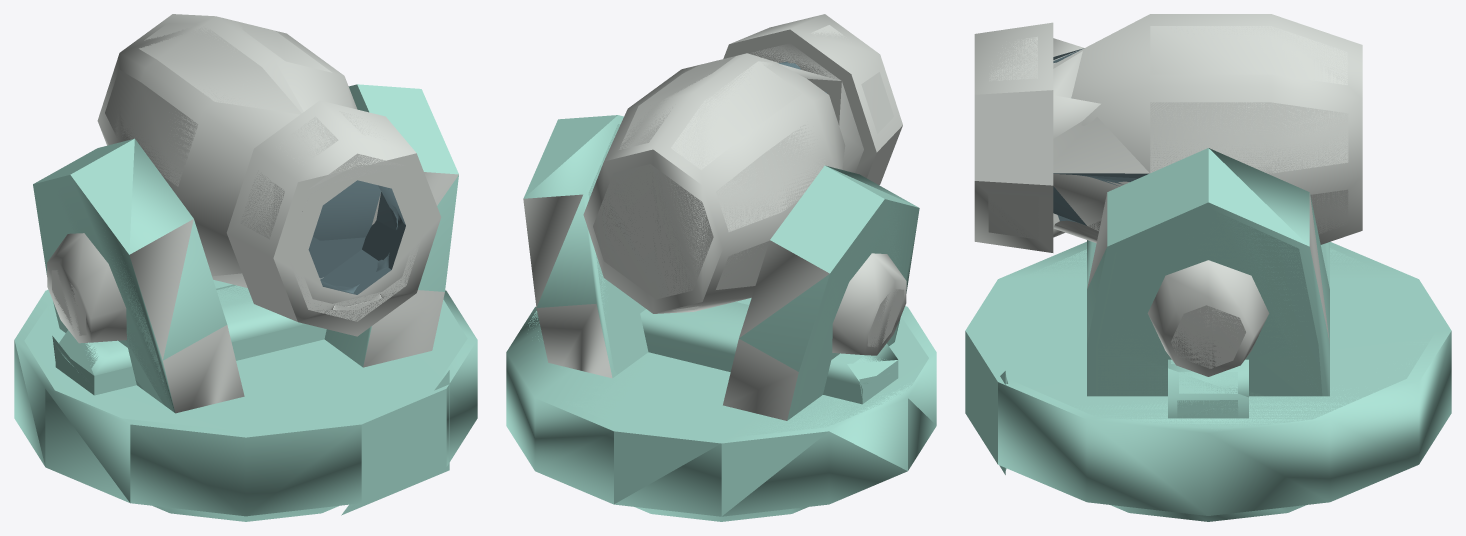
File: tower-defense-kit__weapon-cannon.glb
3 views of the same model, side by side, from view 1: azimuth 30°, elevation 25°; view 2: azimuth 150°, elevation 25°; view 3: azimuth 270°, elevation 25° (orthographic). The views are drawn at different scales.
Parts seen in each view (by area): view 1: L1_accent, L1_metal, L0_accent, L0_metal, L1_dark, L0_dark; view 2: L1_accent, L1_metal, L0_metal, L0_accent; view 3: L1_accent, L1_metal, L0_accent, L0_metal, L0_dark.
Part boxes in pixels (x1,y1,x2,y2): L1_accent: (14, 84, 477, 521); L1_metal: (47, 14, 458, 413); L0_accent: (24, 188, 467, 515); L0_metal: (51, 21, 427, 335); L1_dark: (308, 185, 405, 294); L0_dark: (313, 180, 402, 293); L1_accent: (506, 115, 936, 521); L1_metal: (523, 14, 906, 420); L0_metal: (593, 25, 904, 347); L0_accent: (528, 124, 928, 438); L1_accent: (965, 148, 1451, 521); L1_metal: (974, 14, 1362, 376); L0_accent: (980, 209, 1436, 474); L0_metal: (988, 26, 1348, 368); L0_dark: (1053, 48, 1148, 225).
Size of the model in its own units: 1 by 1 by 1.
